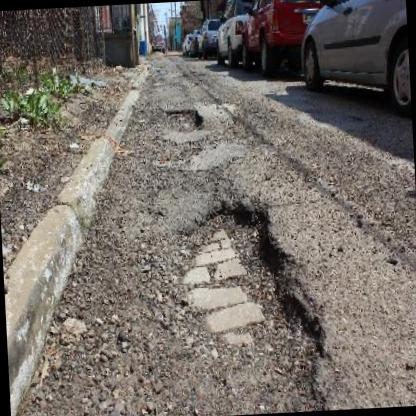pothole: (160, 197, 335, 416), (161, 102, 205, 134)
